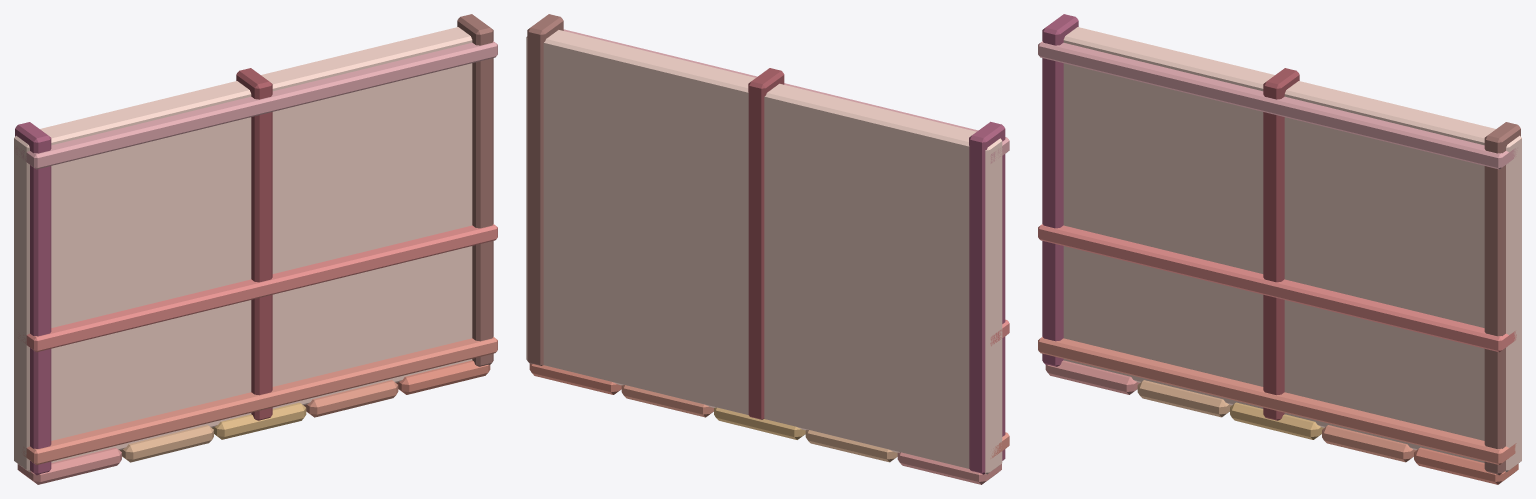
Rendered from WC_RIVER_Wall_Plain_A.glb.
3 renders of one model, left to right at view 1: azimuth 30°, elevation 25°; view 2: azimuth 150°, elevation 25°; view 3: azimuth 330°, elevation 25°, orthographic.
Parts seen in each view (by area): view 1: WC_RIVER_Wall_Plain_A_RenderMesh; view 2: WC_RIVER_Wall_Plain_A_RenderMesh; view 3: WC_RIVER_Wall_Plain_A_RenderMesh.
Boxes of the visible parts, x1,y1,x2,y2 form: WC_RIVER_Wall_Plain_A_RenderMesh: (14,14,497,484); WC_RIVER_Wall_Plain_A_RenderMesh: (526,14,1009,484); WC_RIVER_Wall_Plain_A_RenderMesh: (1038,14,1521,484).
Size of the model in its own units: 3.4 by 2.44 by 0.3076.
